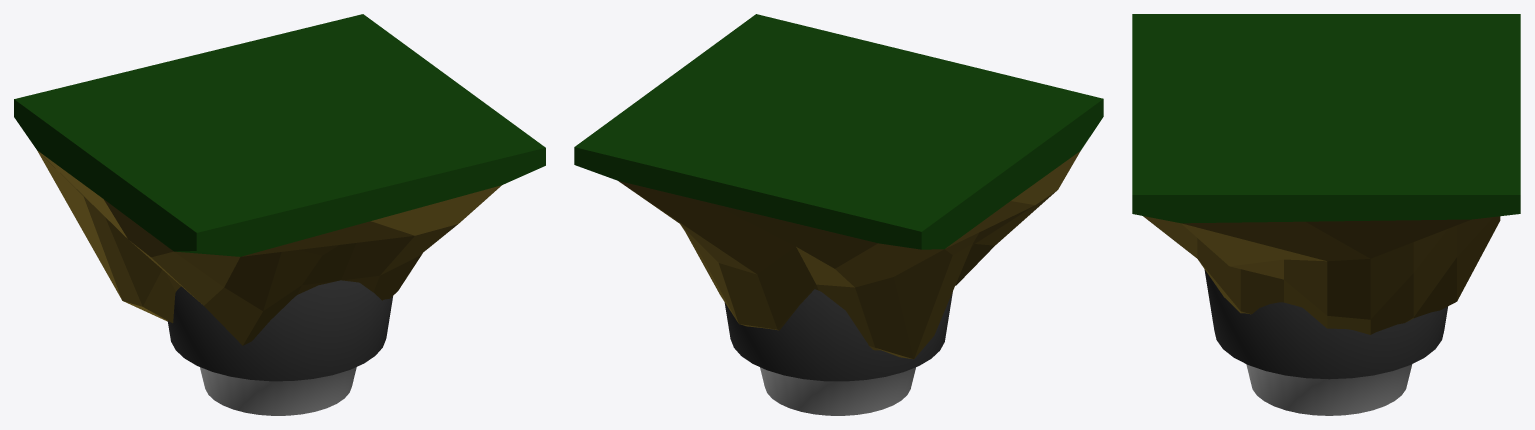
Rendered from Island5.fbx.
3 renders of one model, left to right at view 1: azimuth 30°, elevation 25°; view 2: azimuth 150°, elevation 25°; view 3: azimuth 270°, elevation 25°, orthographic. The views are drawn at different scales.
Visible parts, largest first — view 1: Island5; view 2: Island5; view 3: Island5.
Part boxes in pixels (left/top/right/bottom): Island5: left=14, top=14, right=545, bottom=415; Island5: left=574, top=14, right=1103, bottom=415; Island5: left=1132, top=14, right=1520, bottom=415.
Size of the model in its own units: 4154 by 2983 by 3767.
